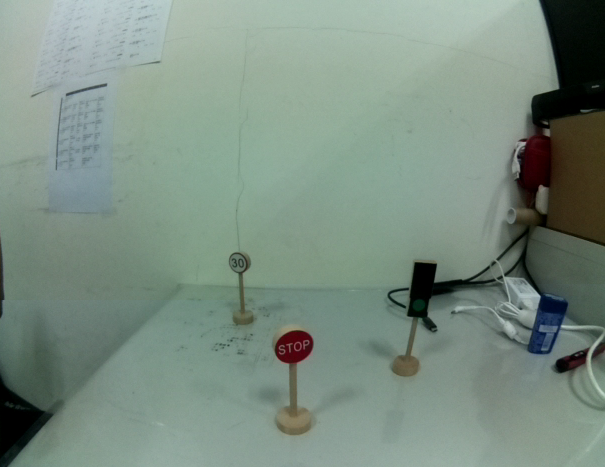Green: (404, 256, 437, 323)
Speed30: (226, 248, 255, 276)
Stop: (265, 320, 323, 369)
